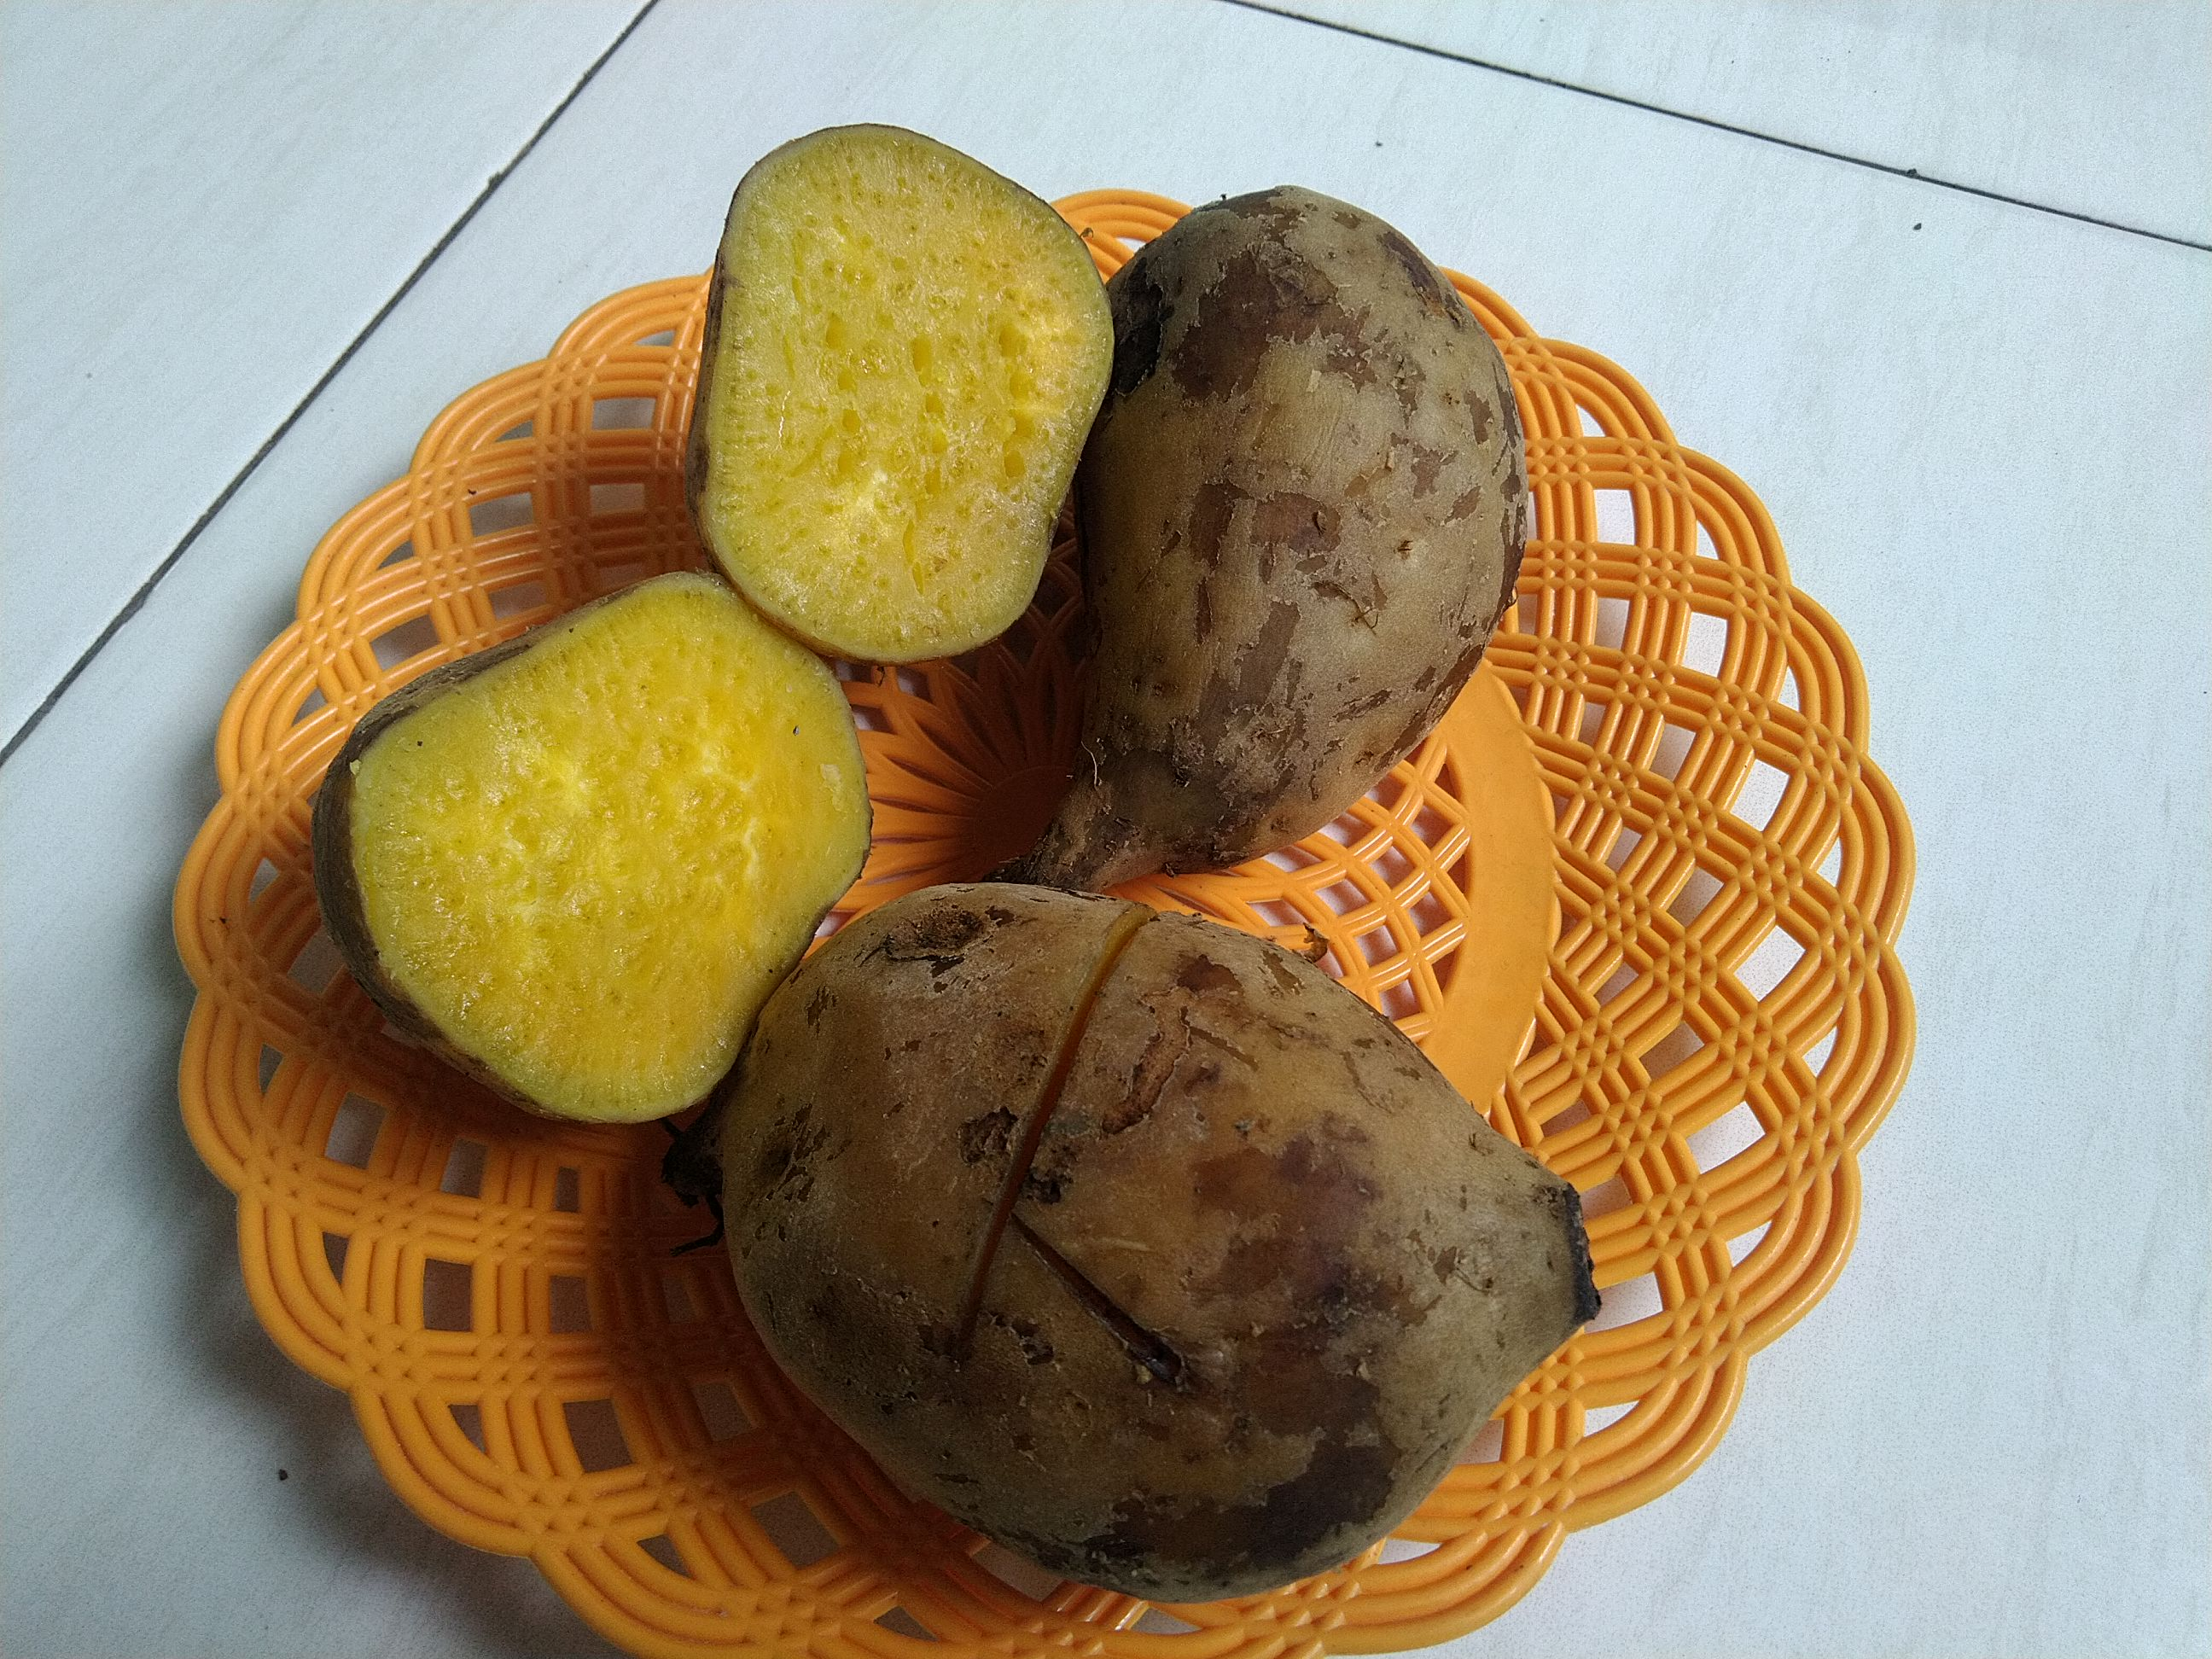ubi kuning: (712, 861, 1615, 1610), (1047, 173, 1571, 906), (301, 572, 888, 1133), (657, 115, 1108, 694)
